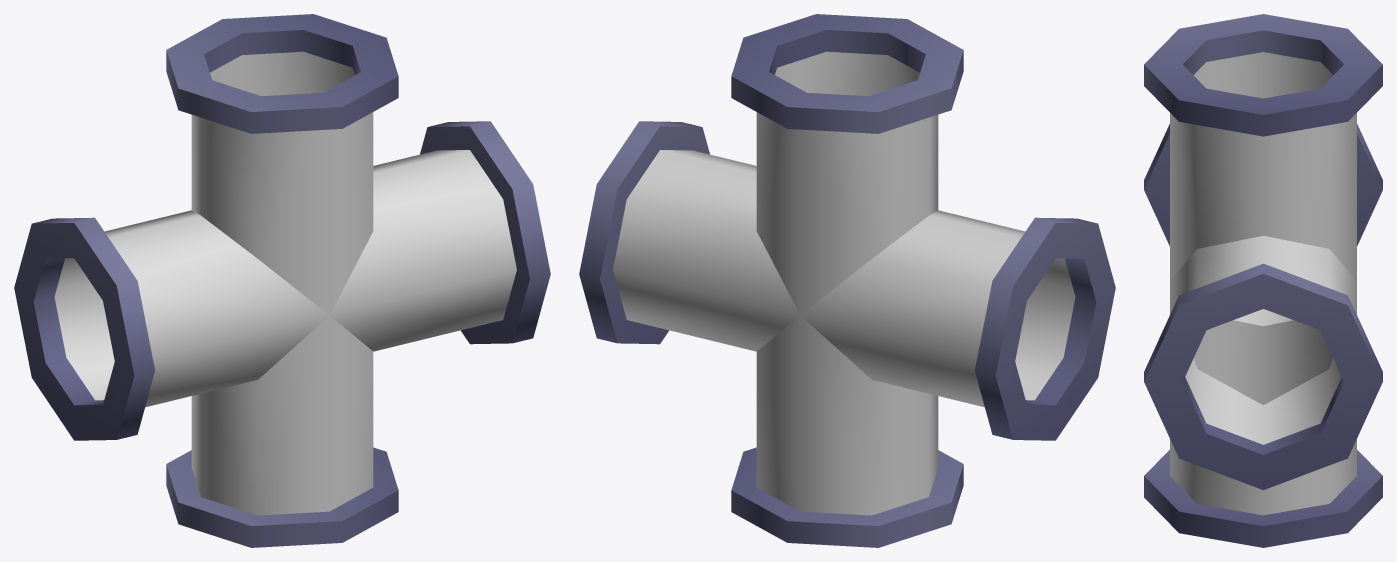
Rendered from pipe-glass-large-cross.glb.
3 views of the same model, side by side, from view 1: azimuth 30°, elevation 25°; view 2: azimuth 150°, elevation 25°; view 3: azimuth 270°, elevation 25° (orthographic).
Visible parts, largest first — view 1: pipe-glass-large-cross; view 2: pipe-glass-large-cross; view 3: pipe-glass-large-cross.
Part boxes in pixels (<box>): pipe-glass-large-cross: <box>14,14,550,547</box>; pipe-glass-large-cross: <box>579,14,1115,547</box>; pipe-glass-large-cross: <box>1144,14,1382,547</box>.
Bounding box in the file's own units: 2 × 2 × 1.
